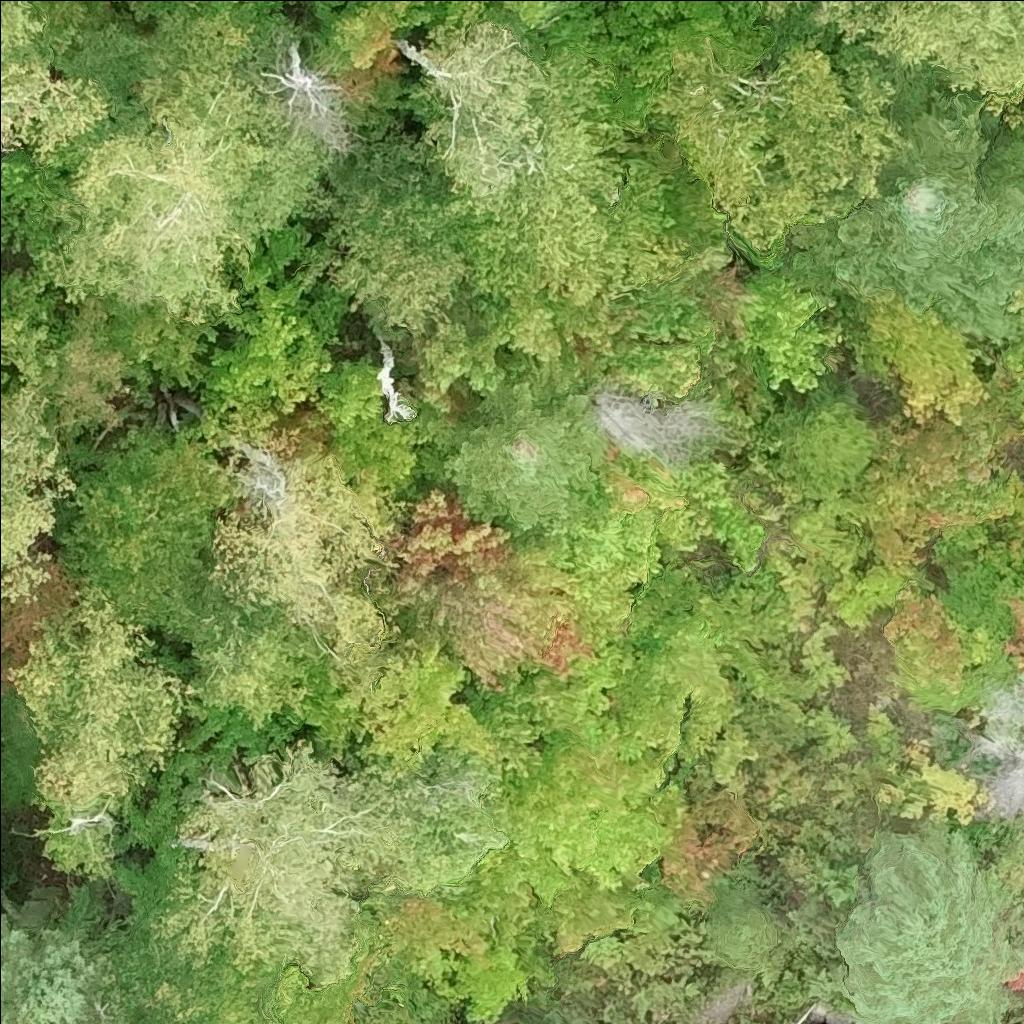crown: (42, 64, 327, 327), (155, 739, 413, 989), (417, 20, 625, 305), (652, 41, 902, 252), (47, 405, 273, 628), (833, 111, 1023, 344), (376, 490, 589, 690), (8, 585, 184, 808), (836, 820, 1023, 1023), (857, 376, 1021, 570), (480, 735, 675, 890), (604, 579, 742, 768), (444, 382, 611, 527), (159, 578, 320, 727), (358, 652, 547, 775), (646, 565, 811, 704), (322, 185, 469, 341), (359, 746, 509, 898), (806, 0, 1023, 98), (84, 927, 277, 1023), (856, 288, 986, 425), (882, 588, 1016, 717), (203, 283, 328, 415), (497, 639, 641, 751), (0, 389, 75, 600), (30, 289, 132, 442), (764, 399, 899, 509), (564, 433, 685, 555), (304, 359, 415, 491), (542, 519, 649, 654), (640, 462, 765, 576), (604, 280, 714, 404), (779, 499, 877, 629), (92, 287, 215, 389), (742, 269, 841, 393), (410, 288, 507, 413), (0, 914, 108, 1023), (664, 244, 765, 358), (0, 53, 103, 157), (933, 521, 1023, 639), (502, 293, 628, 372), (260, 38, 348, 147), (597, 387, 722, 463), (777, 808, 868, 906), (960, 685, 1023, 821), (46, 784, 130, 879), (824, 563, 933, 630), (659, 818, 733, 907), (706, 886, 779, 970), (687, 788, 758, 854), (291, 282, 351, 345), (752, 758, 816, 813), (992, 335, 1023, 425), (0, 0, 45, 60), (616, 0, 720, 24), (466, 0, 553, 27), (1004, 586, 1023, 689), (995, 479, 1023, 540), (1006, 283, 1023, 336), (1019, 423, 1023, 443)
